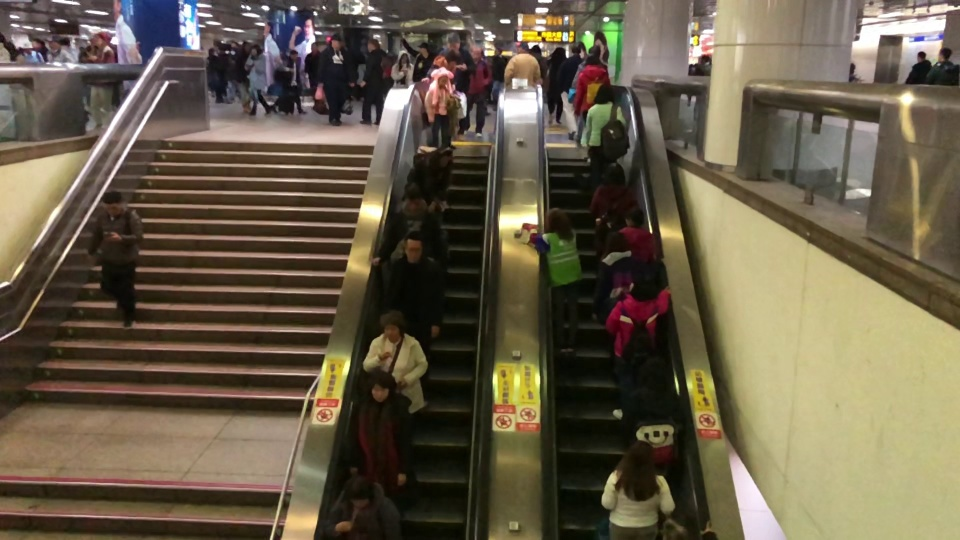person_head: (365, 370, 397, 403), (624, 439, 655, 471), (378, 309, 406, 343), (346, 477, 373, 506), (632, 272, 659, 298), (404, 230, 424, 264), (627, 326, 652, 352), (100, 189, 124, 215), (402, 184, 423, 211), (605, 162, 627, 186), (546, 207, 569, 228), (594, 84, 614, 103), (606, 232, 627, 250), (625, 207, 644, 225), (380, 52, 398, 69), (446, 32, 461, 51), (433, 69, 449, 86), (438, 149, 452, 168), (471, 46, 485, 63), (331, 33, 343, 51), (93, 33, 108, 47), (366, 37, 380, 51), (938, 47, 952, 61), (249, 43, 262, 56), (588, 44, 601, 57), (48, 39, 60, 51), (516, 42, 529, 53), (585, 53, 598, 64), (916, 50, 927, 63), (554, 47, 566, 58), (571, 42, 582, 54), (399, 52, 409, 63), (418, 42, 428, 53), (289, 49, 298, 59), (700, 54, 710, 63), (849, 63, 856, 75), (311, 42, 318, 52), (495, 47, 502, 54), (0, 33, 4, 41)
person_vbox: (604, 272, 671, 418), (348, 370, 421, 503), (619, 326, 688, 466), (522, 206, 583, 353), (87, 190, 144, 328), (601, 439, 676, 540), (386, 230, 446, 347), (362, 309, 428, 414), (593, 232, 665, 322), (370, 184, 447, 264), (421, 32, 475, 142), (322, 476, 400, 540), (582, 84, 631, 185), (588, 161, 639, 242), (404, 146, 454, 219), (318, 31, 355, 127), (570, 44, 601, 147), (83, 33, 116, 128), (463, 46, 492, 138), (574, 53, 612, 120), (423, 68, 456, 145), (358, 37, 386, 126), (557, 42, 581, 139), (619, 206, 657, 263), (243, 43, 272, 116), (278, 48, 307, 115), (504, 41, 541, 85), (546, 47, 566, 125), (400, 35, 433, 81), (926, 46, 957, 85), (694, 53, 711, 120), (904, 50, 932, 84), (303, 42, 322, 89), (492, 47, 505, 110), (390, 51, 412, 83), (46, 38, 74, 62), (0, 32, 11, 62), (847, 62, 861, 83)
